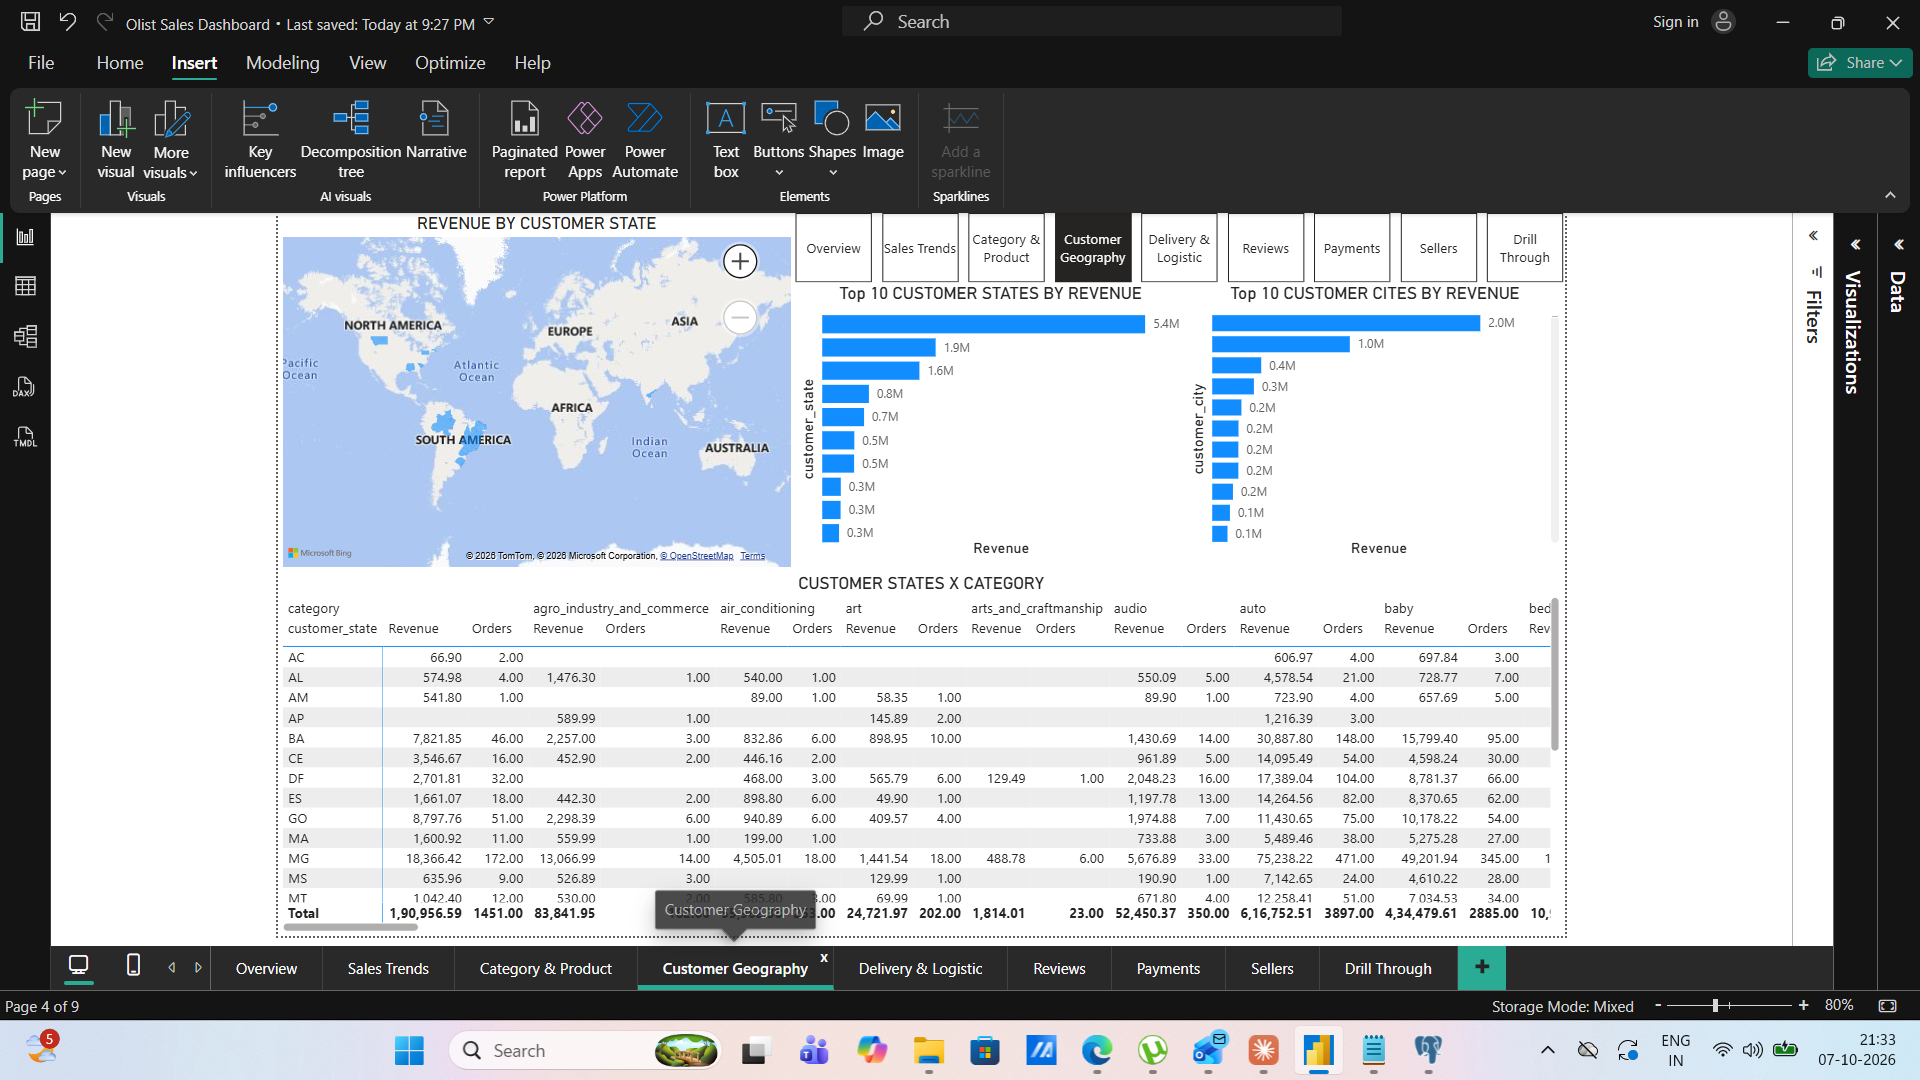

This screenshot's page, from the dashboard's own definition file:
{"tool":"powerbi","page":{"name":"Customer Geography ","canvas":[1280,720],"ordinal":3},"visuals":[{"type":"pivotTable","title":"CUSTOMER STATES X CATEGORY","fields":{"Values":["public bi_fact_sales.Revenue","public bi_fact_sales.Orders"],"Rows":["public bi_fact_sales.customer_state"],"Columns":["public bi_fact_sales.category"]},"box":[0,357.7,1280.3,361.7],"z":0},{"type":"filledMap","title":"REVENUE BY CUSTOMER STATE","fields":{"Category":["public bi_fact_sales.customer_state"]},"box":[0,0,514.8,357.7],"z":1000},{"type":"barChart","title":"Top 10 CUSTOMER CITES BY REVENUE","fields":{"Y":["public bi_fact_sales.Revenue"],"Category":["public bi_fact_sales.customer_city"]},"box":[903.1,69.7,376.9,277.4],"z":2000},{"type":"barChart","title":"Top 10 CUSTOMER STATES BY REVENUE","fields":{"Y":["public bi_fact_sales.Revenue"],"Category":["public bi_fact_sales.customer_state"]},"box":[515,69.7,388.1,277.4],"z":3000},{"type":"pageNavigator","box":[515,0,765,69.7],"z":4000}]}

Visuals, with their boxes on the page's 1280x720 design canvas (x1, y1, x2, y2). These are canvas units, not pixel positions in the 1920x1080 screenshot, which may show the page scaled, cropped or inside an application window:
"CUSTOMER STATES X CATEGORY" pivotTable: box(0, 358, 1280, 719)
"REVENUE BY CUSTOMER STATE" filledMap: box(0, 0, 515, 358)
"Top 10 CUSTOMER CITES BY REVENUE" barChart: box(903, 70, 1280, 347)
"Top 10 CUSTOMER STATES BY REVENUE" barChart: box(515, 70, 903, 347)
pageNavigator: box(515, 0, 1280, 70)
